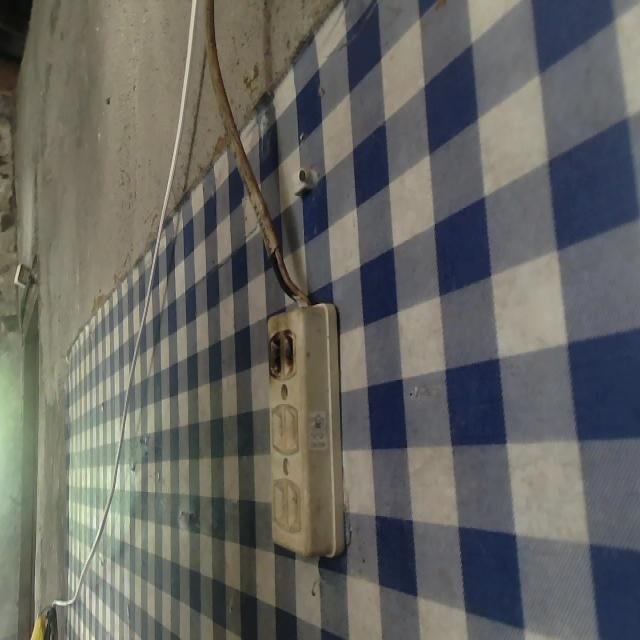-: (257, 322, 304, 378)
